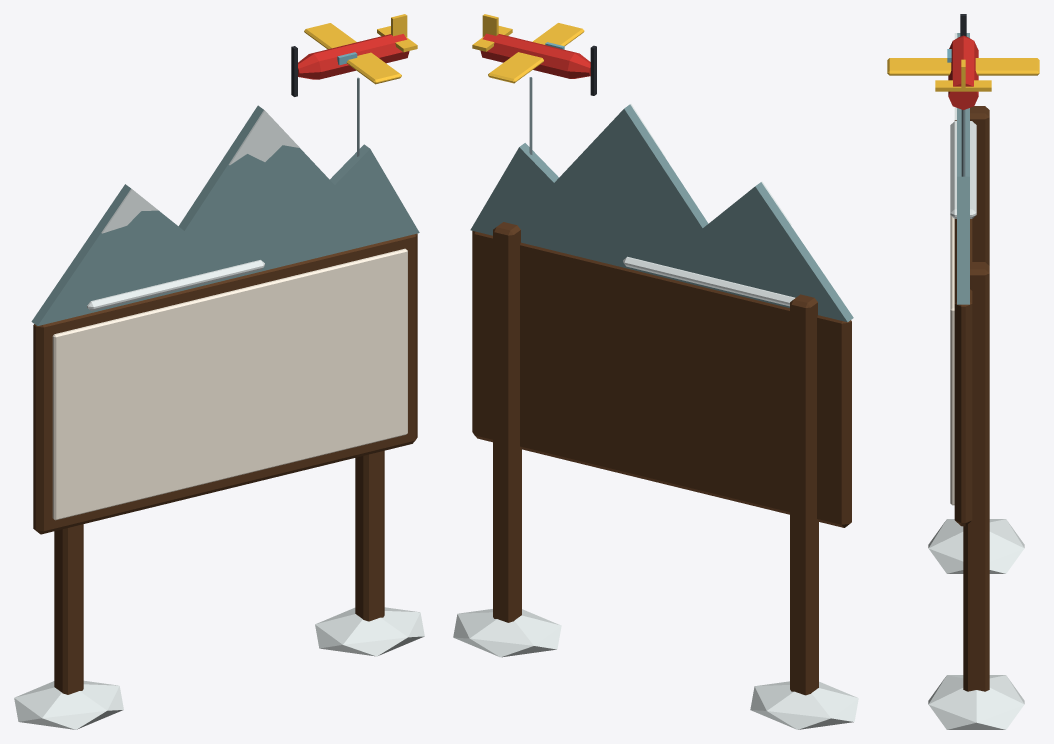
The model's file is sm_env_gate_sign_mountain.glb.
The picture shows the model from 3 angles, left to right: view 1: azimuth 30°, elevation 25°; view 2: azimuth 150°, elevation 25°; view 3: azimuth 270°, elevation 25°; orthographic projection. The views are drawn at different scales.
Parts seen in each view (by area): view 1: Sign, Board; view 2: Sign; view 3: Sign, Board.
Part boxes in pixels (x1,y1,x2,y2): Sign: (14, 14, 424, 729); Board: (52, 248, 407, 520); Sign: (453, 14, 858, 729); Sign: (887, 14, 1039, 729); Board: (950, 215, 954, 505).
Bounding box in the file's own units: 2.27 × 3.34 × 0.7.
